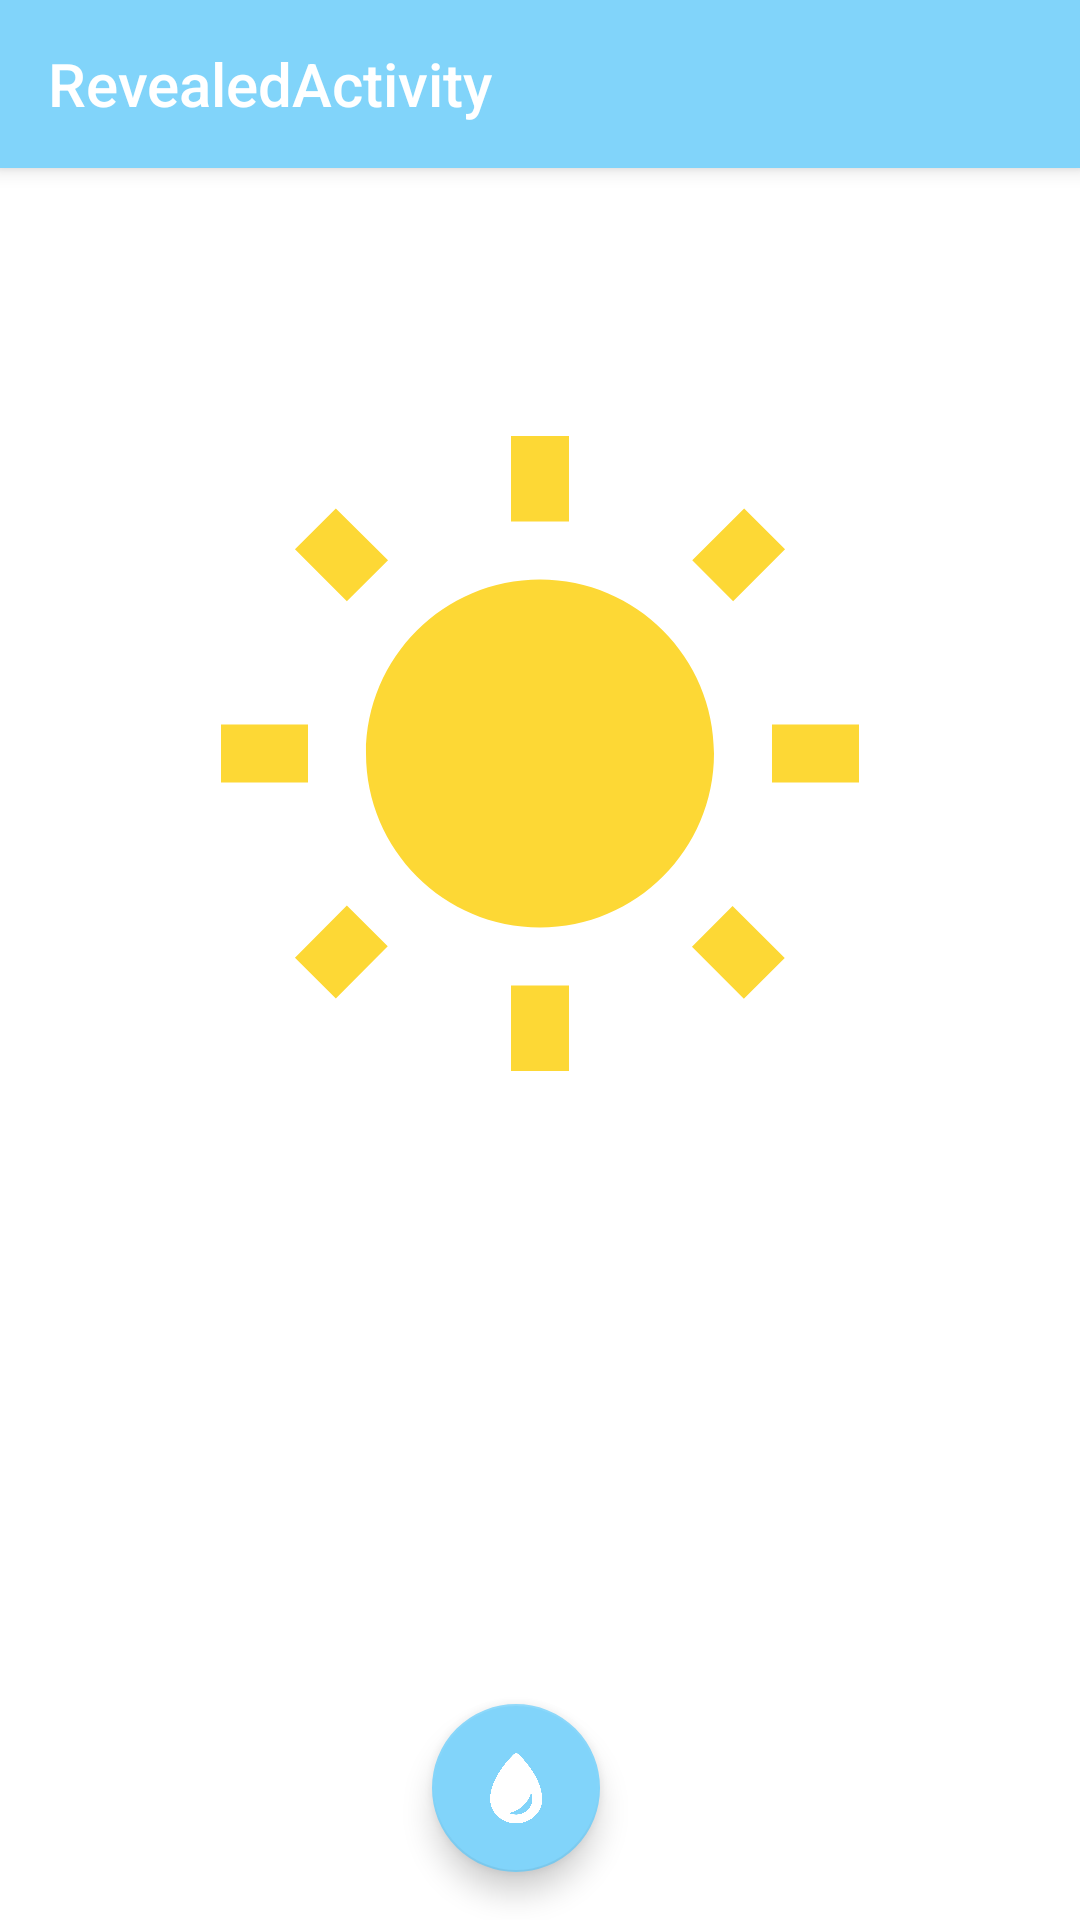

Icon click points for this 1080 x 1920 phone screenshot, format [x,y]:
water: [516,1788]
